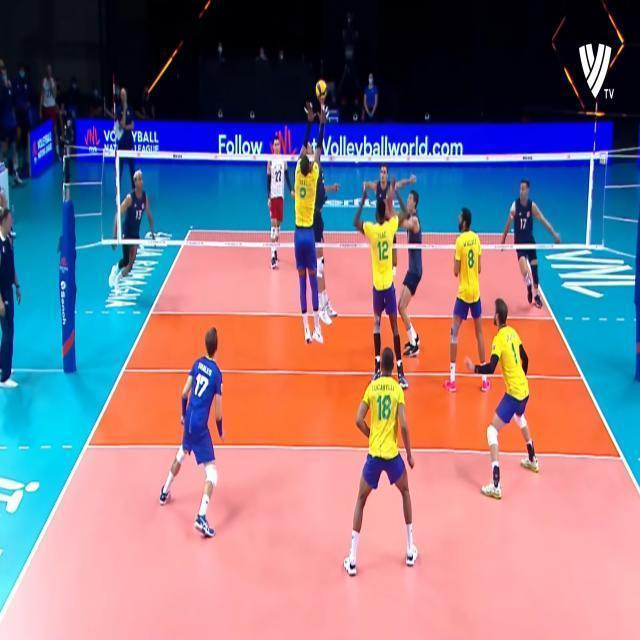volleyball: (316, 80, 328, 100)
